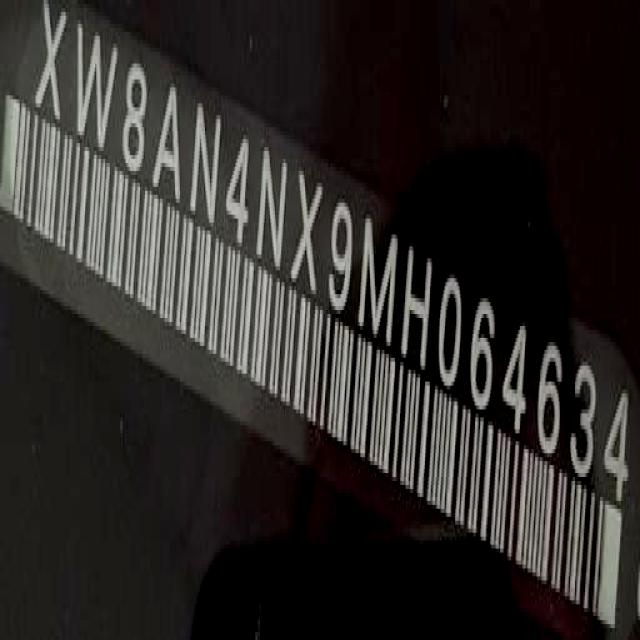0: (436, 266, 464, 397)
3: (569, 352, 598, 484)
4: (602, 375, 634, 501), (501, 316, 531, 447), (225, 121, 252, 247)
6: (464, 292, 496, 420), (537, 339, 565, 468)
8: (120, 63, 148, 177)
9: (326, 193, 357, 322)
A: (153, 78, 183, 200)
H: (400, 242, 435, 370)
M: (361, 211, 403, 352)
N: (188, 92, 227, 229), (256, 142, 290, 270)
W: (78, 19, 120, 162)
X: (35, 2, 67, 126), (294, 167, 324, 298)
